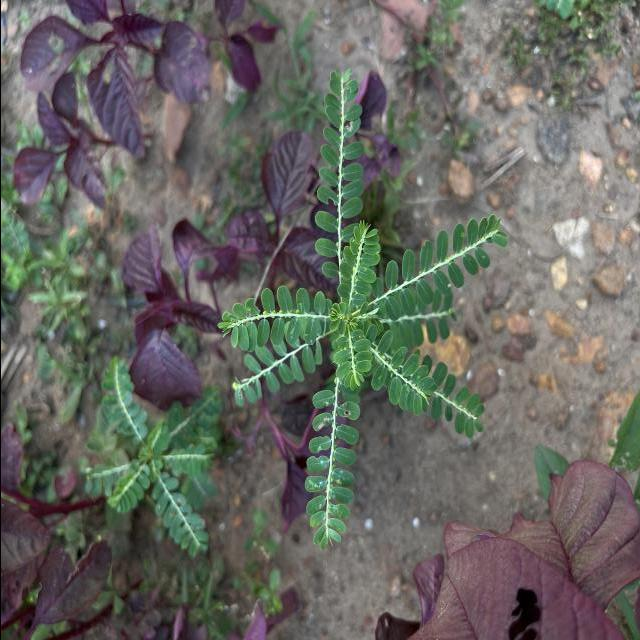Phyllanthus niruri: (370, 209, 508, 322), (312, 63, 366, 280), (302, 386, 362, 552), (213, 283, 337, 353), (363, 327, 437, 417), (335, 220, 382, 310), (331, 324, 372, 391)
